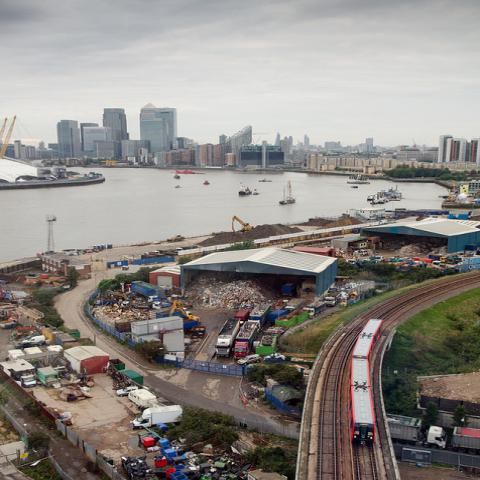car: (237, 354, 261, 365), (116, 386, 140, 397), (22, 335, 46, 344), (15, 341, 41, 349), (24, 334, 41, 339), (358, 250, 368, 256), (374, 259, 382, 261)
truck: (384, 412, 451, 448), (132, 404, 183, 429), (215, 318, 244, 358), (233, 320, 261, 360), (9, 369, 37, 388), (283, 297, 307, 313), (325, 296, 337, 307)
